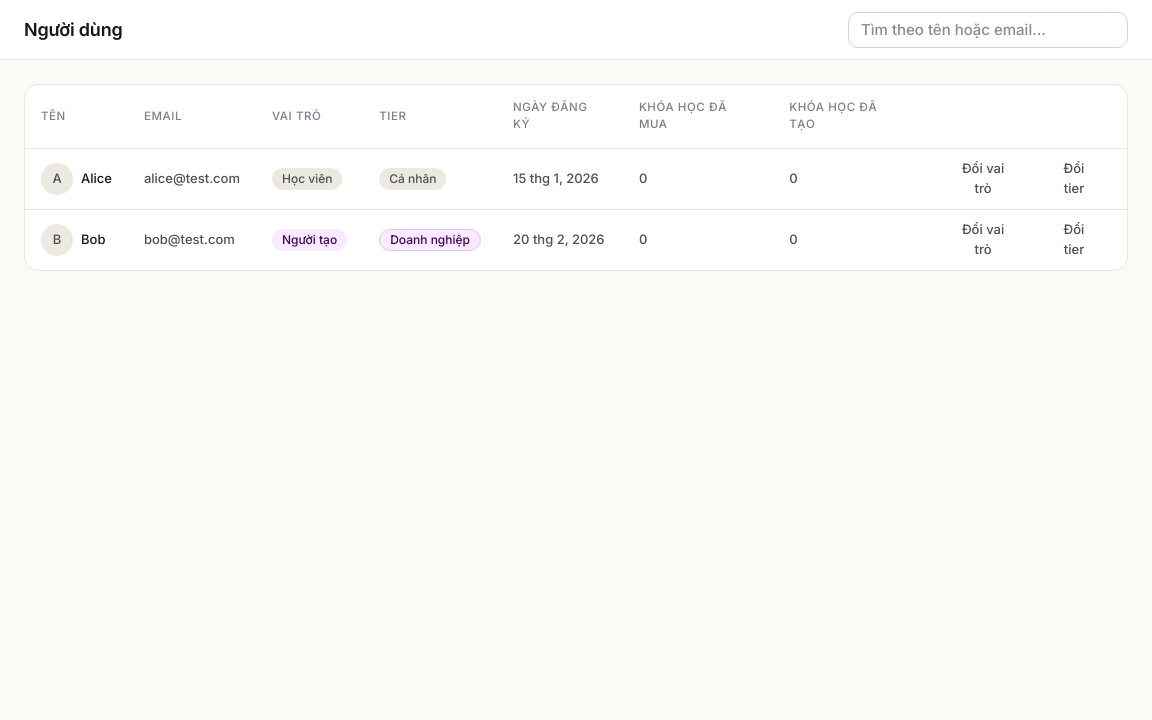
Scenario: AdminUsersPage › closes dialog on Cancel click
Expected: the text "Alice" is shown, [81,169,112,188]
Step 1. Click the button "Đổi vai trò" in the row of "alice@test.com" → {"x": 983, "y": 178}, box [937,162,1029,194]
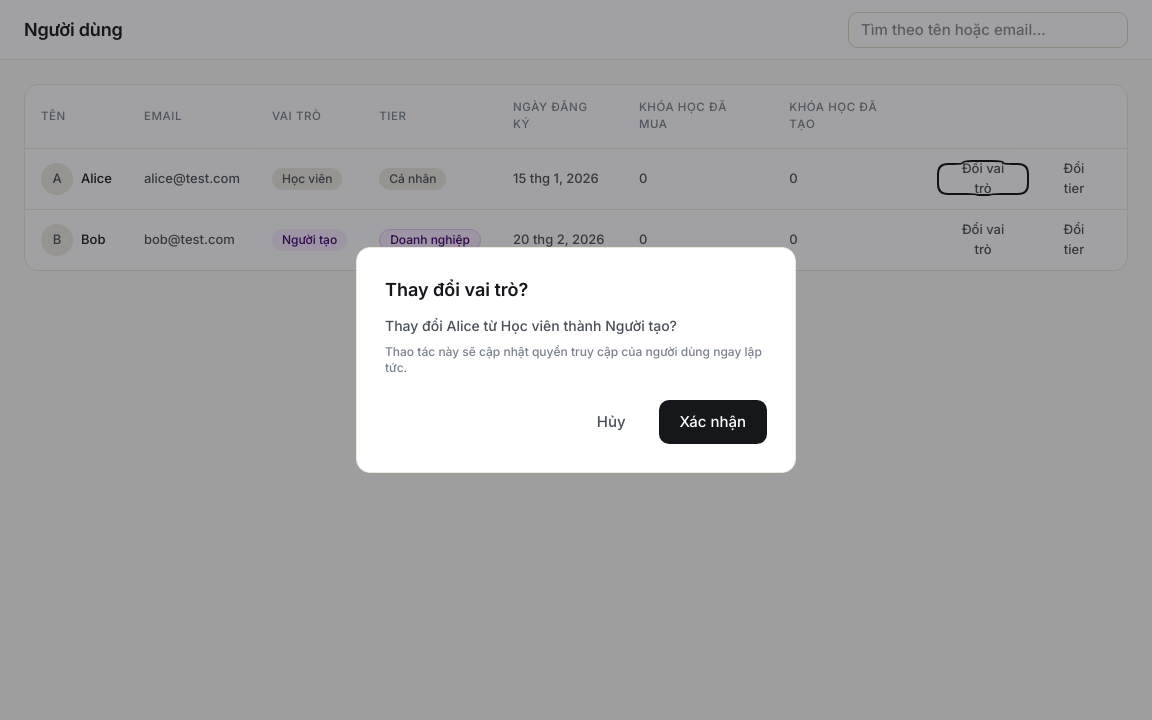
Now the element with test id "role-change-dialog" is shown, box [356,247,796,473]
Step 2. Click the button "Hủy" → {"x": 611, "y": 422}, box [576,400,646,444]
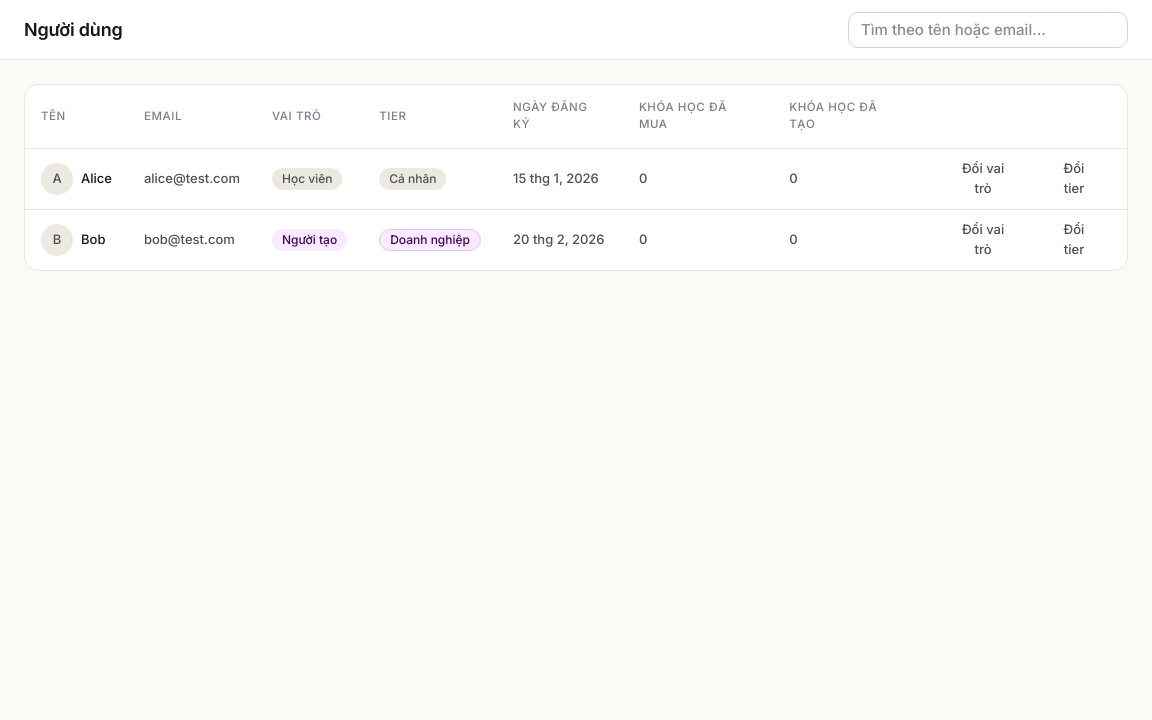
Now the element with test id "role-change-dialog" is gone
